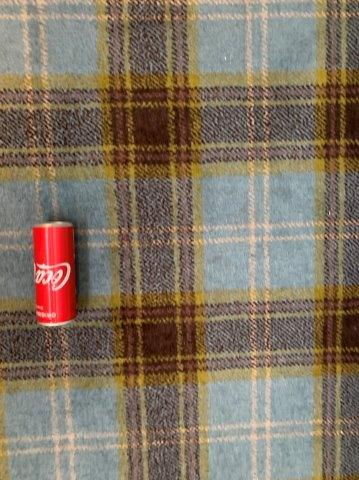kaleng: (33, 223, 76, 326)
